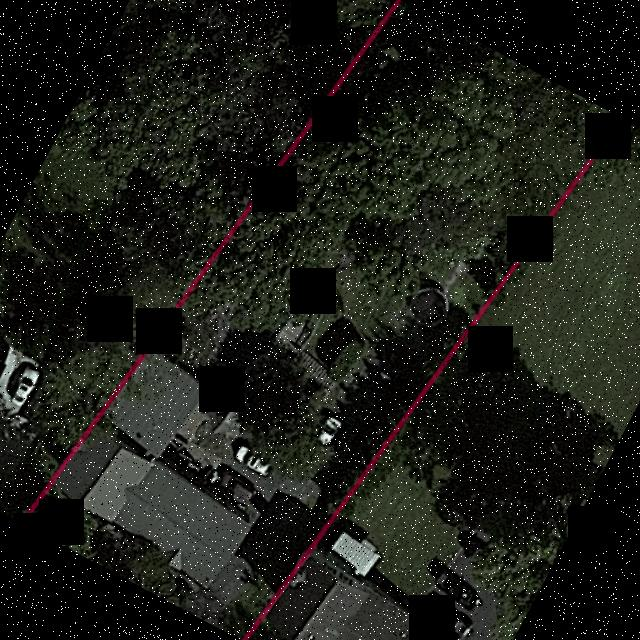Driveway: (177, 404, 318, 507)
House: (50, 347, 259, 593)
Sidewalk: (274, 323, 335, 390)
